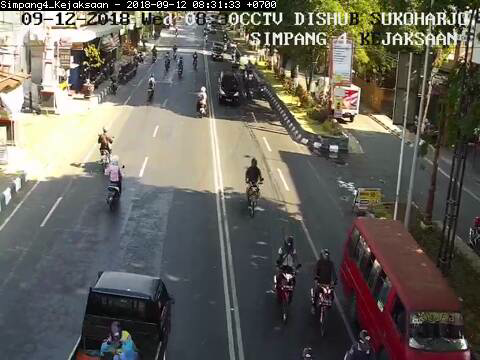motor: (309, 246, 342, 338), (274, 234, 303, 324), (243, 156, 267, 218)
